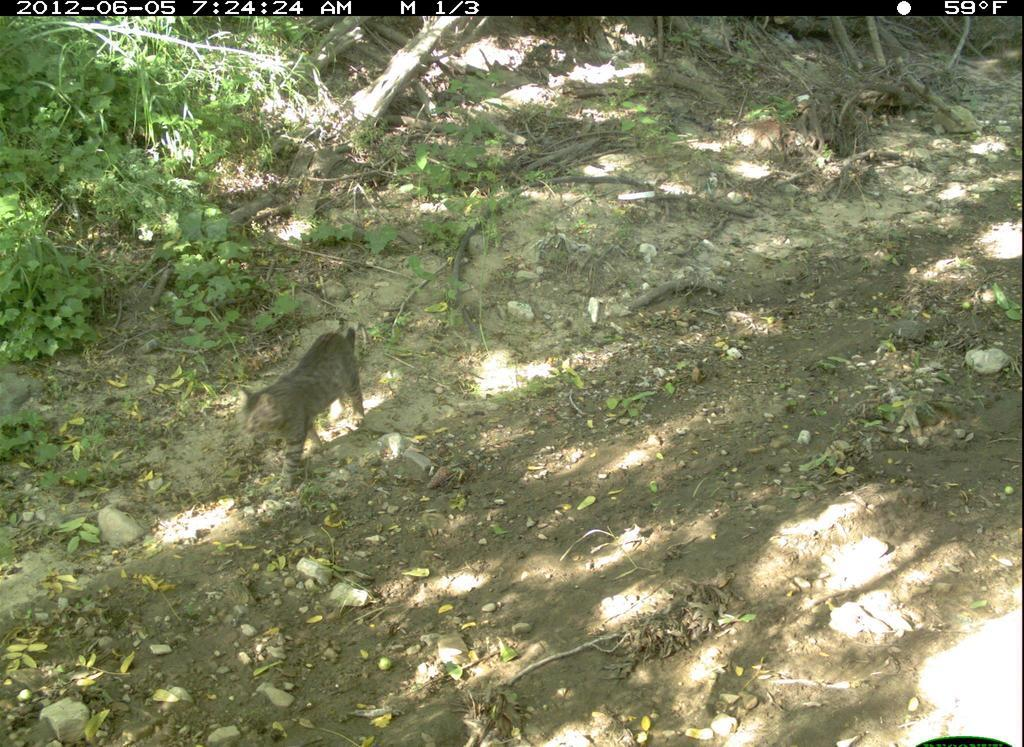cat: (204, 317, 395, 493)
